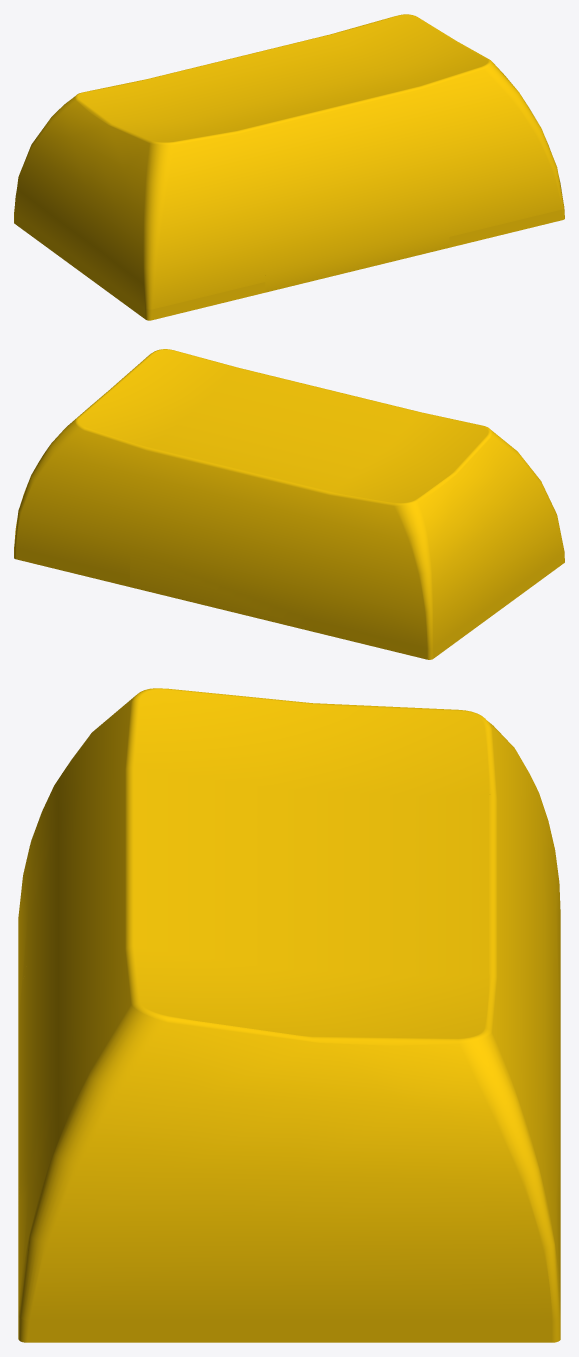
The model's file is KAT_1_75u_r5.glb.
The picture shows the model from 3 angles, top to bottom: view 1: azimuth 30°, elevation 25°; view 2: azimuth 150°, elevation 25°; view 3: azimuth 270°, elevation 25°; orthographic projection. The views are drawn at different scales.
Visible parts, largest first — view 1: Object.092; view 2: Object.092; view 3: Object.092.
Boxes of the visible parts, x1,y1,x2,y2 form: Object.092: (14,14,564,320); Object.092: (14,349,564,659); Object.092: (18,688,560,1342).
Size of the model in its own units: 32.45 by 10.68 by 18.21.
